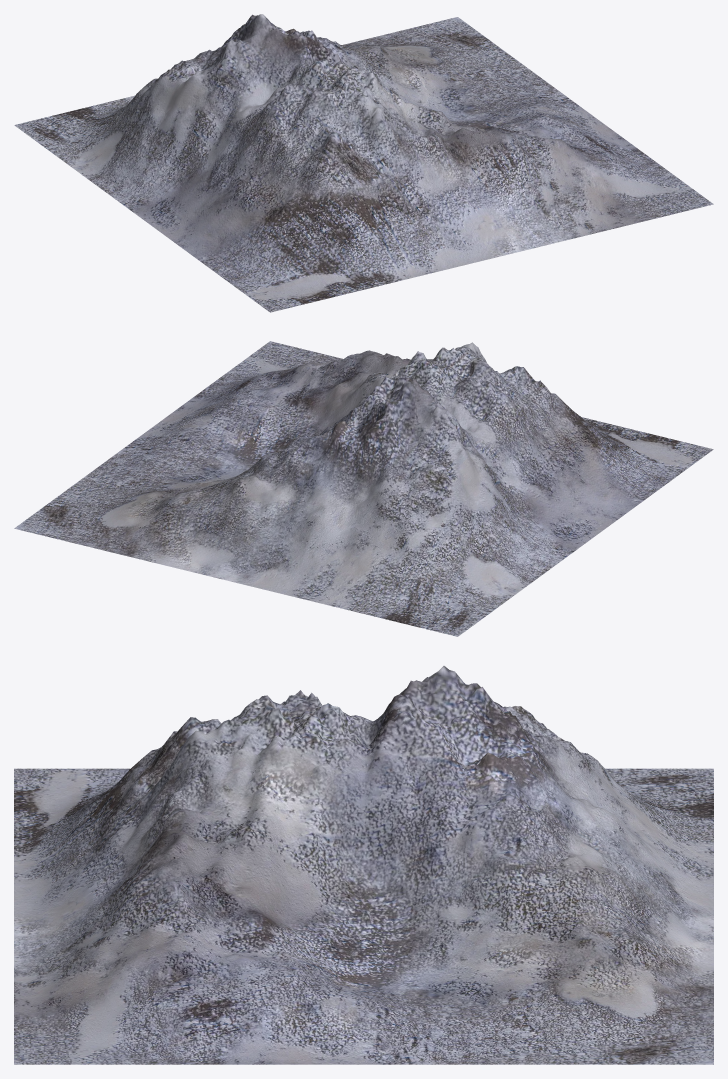
Rendered from mountainAnimation.glb.
The picture shows the model from 3 angles, top to bottom: view 1: azimuth 30°, elevation 25°; view 2: azimuth 150°, elevation 25°; view 3: azimuth 270°, elevation 25°; orthographic projection. The views are drawn at different scales.
Parts seen in each view (by area): view 1: Landscape; view 2: Landscape; view 3: Landscape.
Part boxes in pixels (bbox=[...]): Landscape: bbox=[14, 14, 713, 312]; Landscape: bbox=[14, 341, 713, 636]; Landscape: bbox=[14, 666, 713, 1064].
Bounding box in the file's own units: 1.45 × 0.4585 × 1.45.
1 material, 1 textured.
